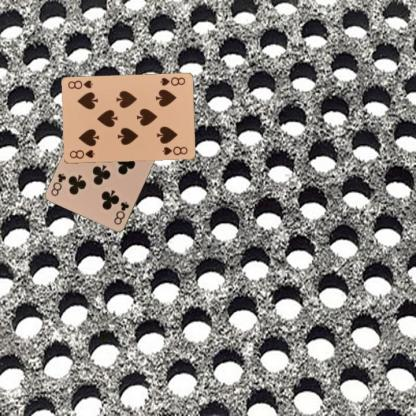8c: (112, 199, 130, 226)
8s: (67, 147, 95, 160), (158, 75, 186, 87)
